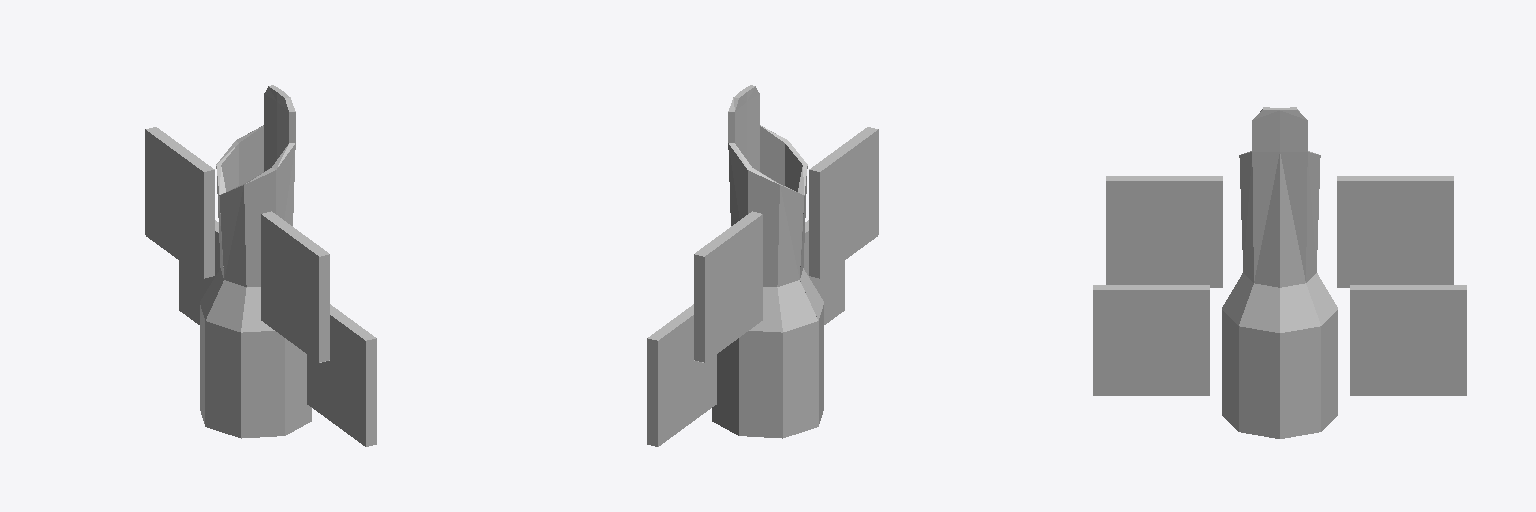
Rendered from telescope.obj.
3 renders of one model, left to right at view 1: azimuth 30°, elevation 25°; view 2: azimuth 150°, elevation 25°; view 3: azimuth 270°, elevation 25°, orthographic.
Parts seen in each view (by area): view 1: Cylinder; view 2: Cylinder; view 3: Cylinder.
Boxes of the visible parts, box(x1,y1,x2,y2) form: Cylinder: box(145, 85, 376, 446); Cylinder: box(647, 85, 878, 446); Cylinder: box(1093, 107, 1466, 438).
Bounding box in the file's own units: 2 × 5.99 × 6.4.